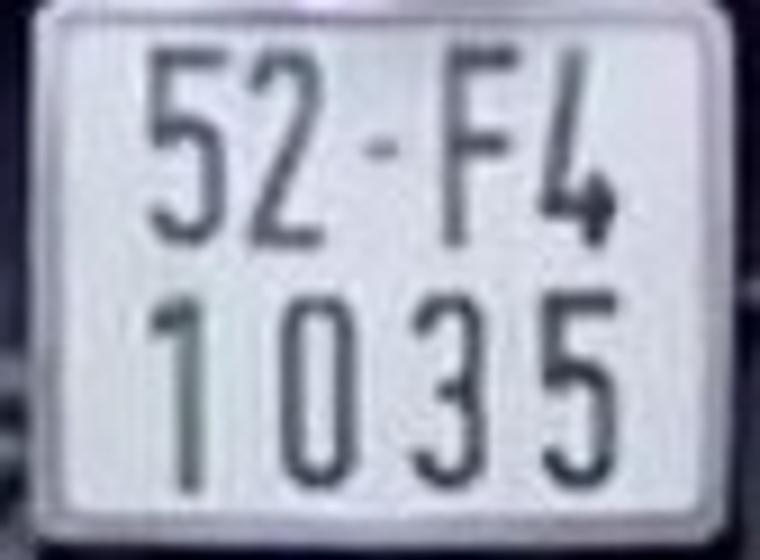-: (354, 135, 403, 163)
0: (276, 291, 364, 483)
1: (139, 299, 209, 489)
2: (251, 50, 326, 244)
3: (403, 288, 483, 488)
4: (534, 41, 617, 246)
5: (538, 293, 623, 493), (143, 46, 229, 241)
F: (439, 40, 518, 235)
